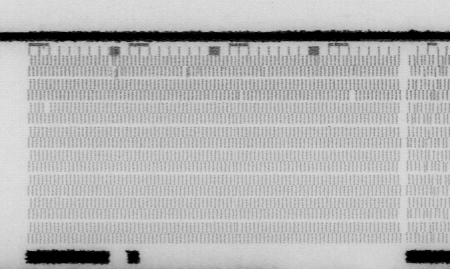Broken hole: (347, 90, 359, 103), (41, 102, 53, 114)
Oblique printing: (407, 53, 450, 245), (105, 54, 123, 79), (179, 64, 194, 78), (234, 88, 247, 101), (259, 65, 271, 77), (348, 65, 359, 77), (233, 222, 243, 233)
